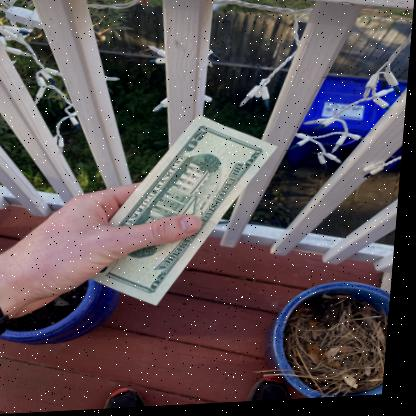twenty-back: (90, 114, 280, 305)
